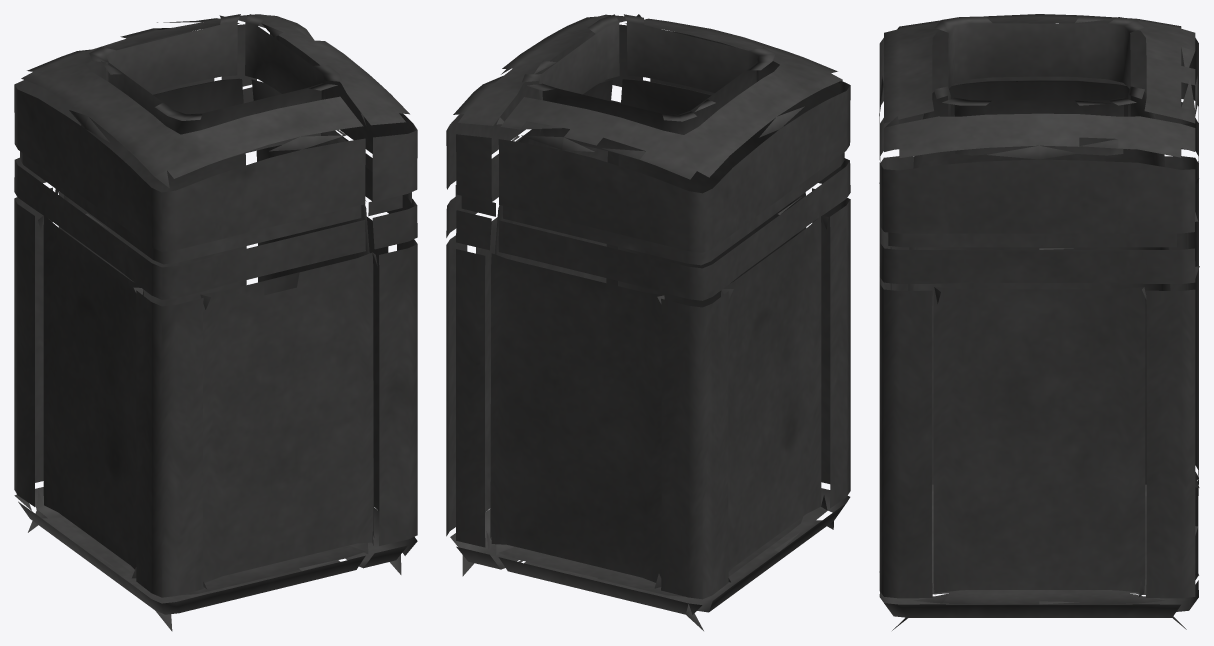
Rendered from trash_commercial.glb.
The picture shows the model from 3 angles, left to right: view 1: azimuth 30°, elevation 25°; view 2: azimuth 150°, elevation 25°; view 3: azimuth 270°, elevation 25°; orthographic projection. The views are drawn at different scales.
Parts seen in each view (by area): view 1: trash_commercial; view 2: trash_commercial; view 3: trash_commercial.
Boxes of the visible parts, bbox=[...] form: trash_commercial: bbox=[14, 14, 417, 631]; trash_commercial: bbox=[446, 14, 850, 630]; trash_commercial: bbox=[879, 14, 1199, 630].
Bounding box in the file's own units: 0.5997 × 1.06 × 0.6001.
1 material, 1 textured.
